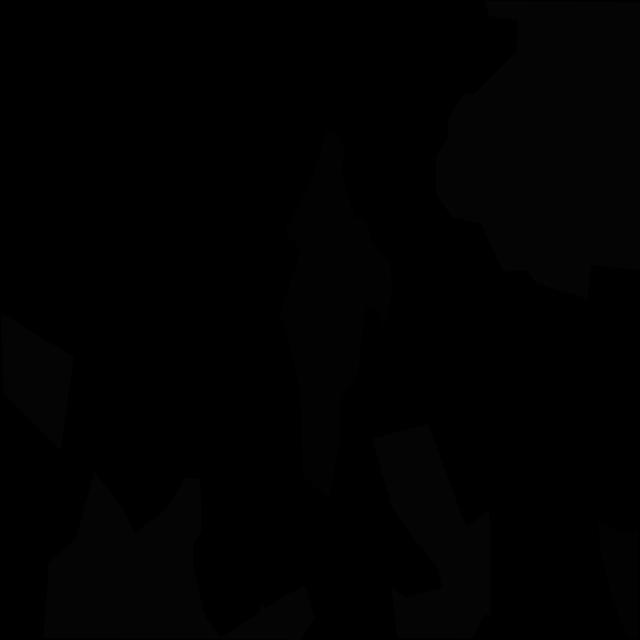cardboard: (279, 130, 392, 499), (598, 521, 638, 637)
soft_plastic: (436, 0, 640, 299), (43, 471, 314, 640), (372, 423, 491, 639), (1, 312, 74, 451)
